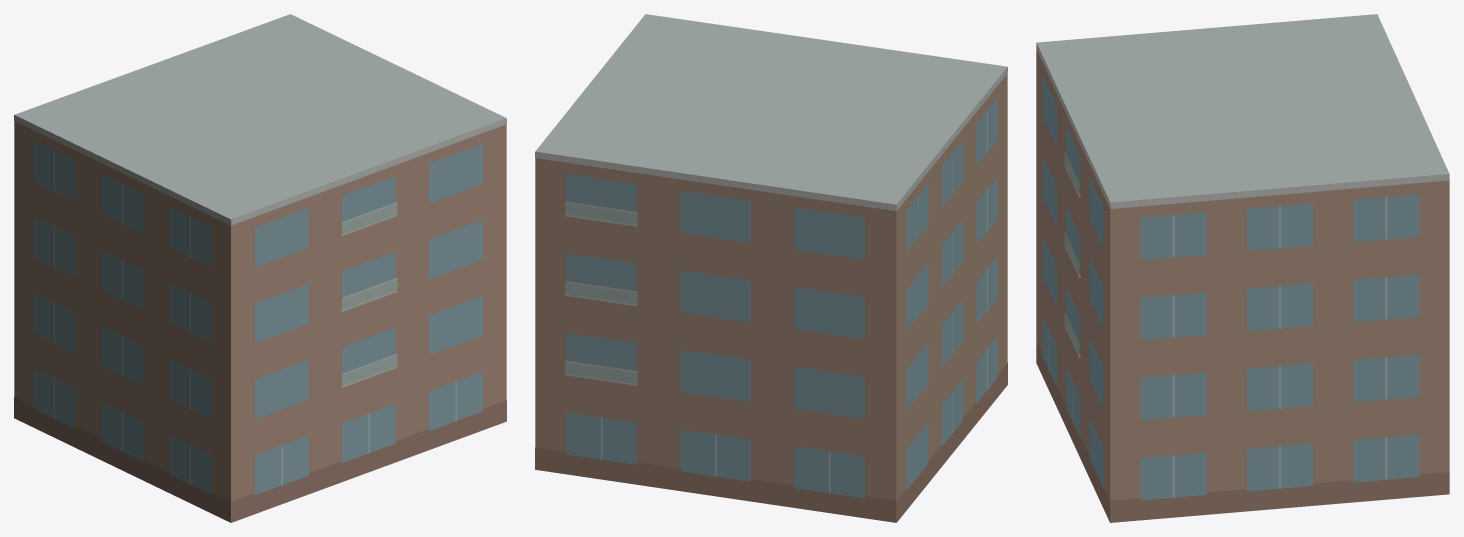
Rendered from survey-upis-32894586.glb.
The picture shows the model from 3 angles, left to right: view 1: azimuth 30°, elevation 25°; view 2: azimuth 150°, elevation 25°; view 3: azimuth 270°, elevation 25°; orthographic projection. The views are drawn at different scales.
Visible parts, largest first — view 1: survey-upis-32894586.tmp; view 2: survey-upis-32894586.tmp; view 3: survey-upis-32894586.tmp.
Boxes of the visible parts, x1,y1,x2,y2 form: survey-upis-32894586.tmp: (14, 14, 506, 522); survey-upis-32894586.tmp: (535, 14, 1007, 522); survey-upis-32894586.tmp: (1036, 14, 1449, 522).
Size of the model in its own units: 15.16 by 12 by 14.04.
